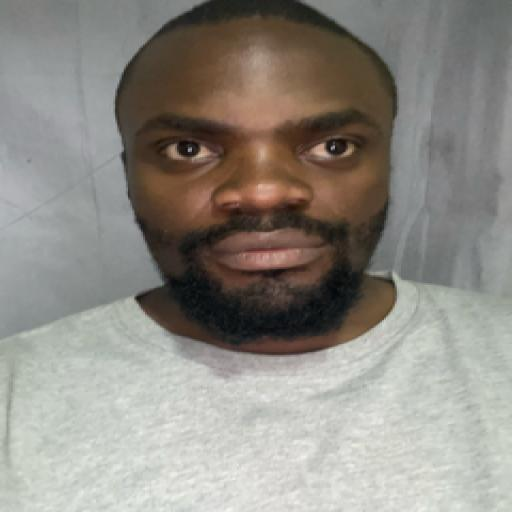JEANLUC: (110, 0, 412, 360)
